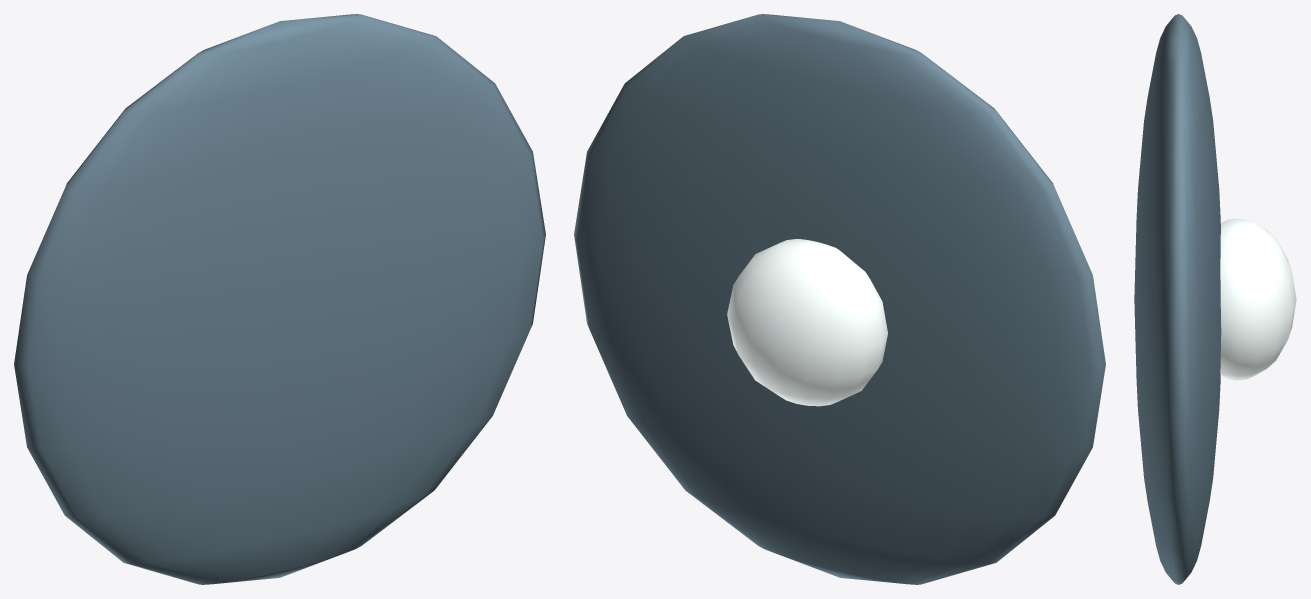
The model's file is greyhaven_anchor_shield.glb.
3 views of the same model, side by side, from view 1: azimuth 30°, elevation 25°; view 2: azimuth 150°, elevation 25°; view 3: azimuth 270°, elevation 25° (orthographic). The views are drawn at different scales.
Visible parts, largest first — view 1: Greyhaven Anchor Shield; view 2: Greyhaven Anchor Shield; view 3: Greyhaven Anchor Shield.
Part boxes in pixels (x1,y1,x2,y2): Greyhaven Anchor Shield: [14, 14, 545, 584]; Greyhaven Anchor Shield: [574, 14, 1105, 584]; Greyhaven Anchor Shield: [1134, 14, 1296, 584].
Bounding box in the file's own units: 0.78 × 0.78 × 0.22.
